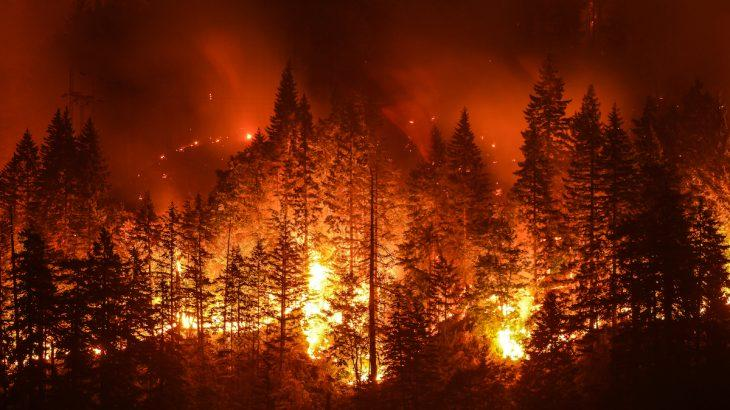fire: (149, 197, 549, 389)
